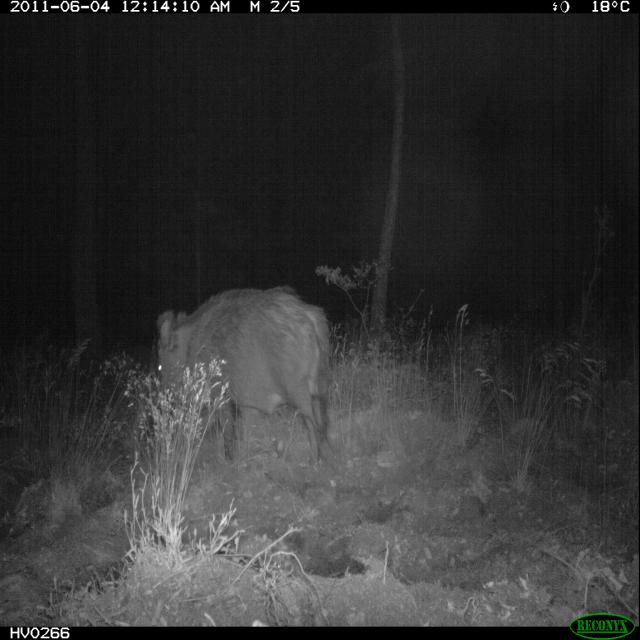boar: (89, 251, 385, 461)
